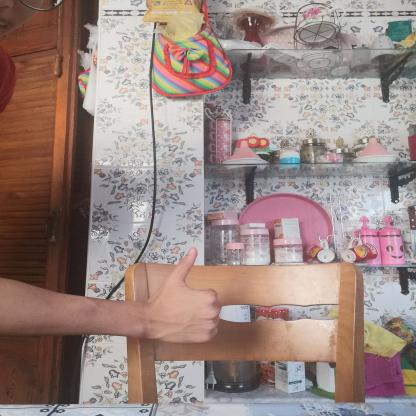ALIF: (133, 235, 234, 356)
